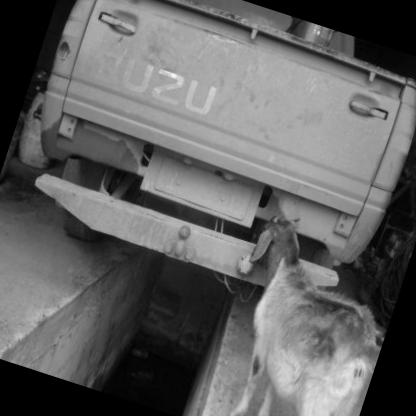truck: (1, 1, 416, 335)
